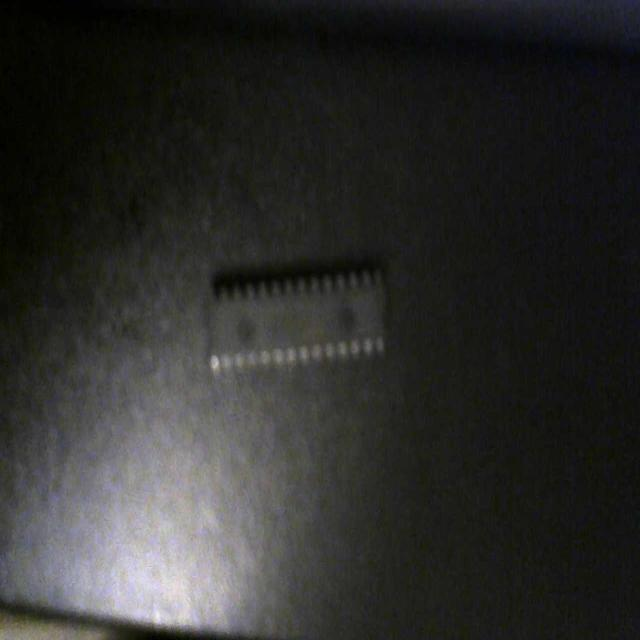atmega: (204, 255, 392, 384)
